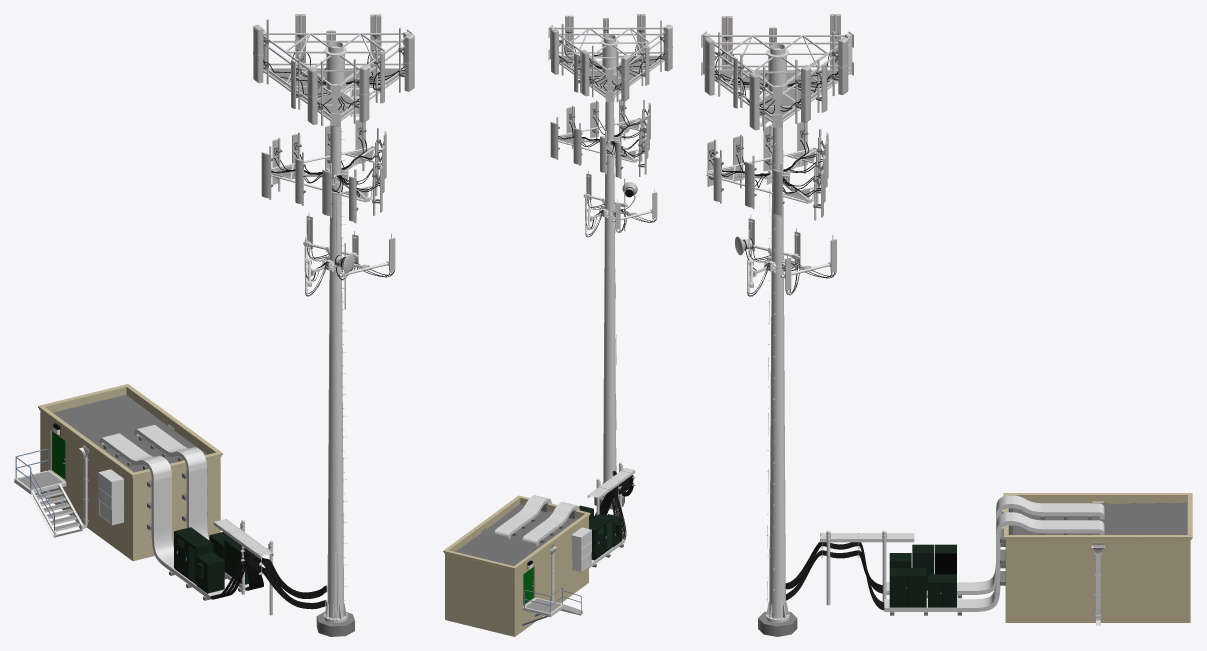
The model's file is jizhan.glb.
The picture shows the model from 3 angles, left to right: view 1: azimuth 30°, elevation 25°; view 2: azimuth 150°, elevation 25°; view 3: azimuth 270°, elevation 25°; orthographic projection. The views are drawn at different scales.
Parts seen in each view (by area): view 1: BaseStation, TopTier, Tower, CableGuides, MidTier, LowTier, ExteriorAC, CableStand, BaseCablesA, ElectricBoxC, BaseCablesB, ElectricBoxB (+2 smaller); view 2: BaseStation, TopTier, Tower, MidTier, CableGuides, LowTier, ExteriorAC, CableStand, ElectricBoxA, BaseCablesA, ElectricBoxB, BaseCablesB; view 3: BaseStation, TopTier, Tower, MidTier, CableGuides, LowTier, CableStand, ElectricBoxD, ElectricBoxE, BaseCablesB, ElectricBoxA.
Boxes of the visible parts, box(x1,y1,x2,y2) form: BaseStation: box(14, 384, 222, 561); TopTier: box(253, 14, 414, 126); Tower: box(316, 46, 354, 636); CableGuides: box(99, 424, 248, 600); MidTier: box(261, 119, 386, 223); LowTier: box(303, 212, 395, 309); ExteriorAC: box(98, 469, 124, 525); CableStand: box(213, 519, 273, 615); BaseCablesA: box(210, 556, 326, 609); ElectricBoxC: box(196, 552, 224, 593); BaseCablesB: box(243, 548, 326, 598); ElectricBoxB: box(185, 535, 213, 584); BaseStation: box(443, 495, 590, 636); TopTier: box(548, 14, 672, 102); Tower: box(594, 38, 624, 509); MidTier: box(550, 99, 650, 178); CableGuides: box(494, 495, 624, 568); LowTier: box(583, 171, 657, 237); ExteriorAC: box(571, 527, 591, 571); CableStand: box(587, 462, 635, 515); ElectricBoxA: box(589, 520, 603, 560); BaseCablesA: box(612, 482, 633, 540); ElectricBoxB: box(591, 514, 613, 553); BaseCablesB: box(594, 470, 633, 517); BaseStation: box(1003, 493, 1192, 625); TopTier: box(701, 14, 853, 131); Tower: box(758, 48, 797, 636); MidTier: box(706, 122, 828, 220); CableGuides: box(884, 495, 1104, 615); LowTier: box(734, 215, 836, 296); CableStand: box(820, 530, 914, 605); ElectricBoxD: box(889, 568, 926, 607); ElectricBoxE: box(928, 574, 956, 607); BaseCablesB: box(785, 542, 884, 610); ElectricBoxA: box(935, 544, 956, 574).
Size of the model in its own units: 1039 by 2997 by 2241.
